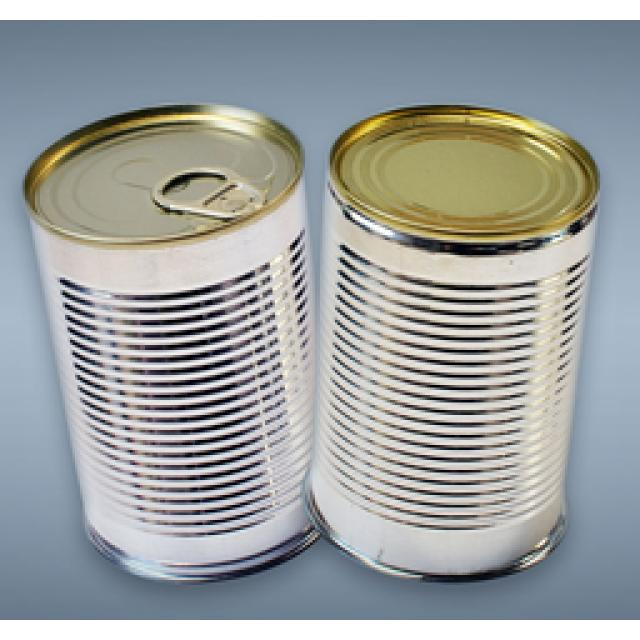alumunium: (25, 105, 598, 580)
